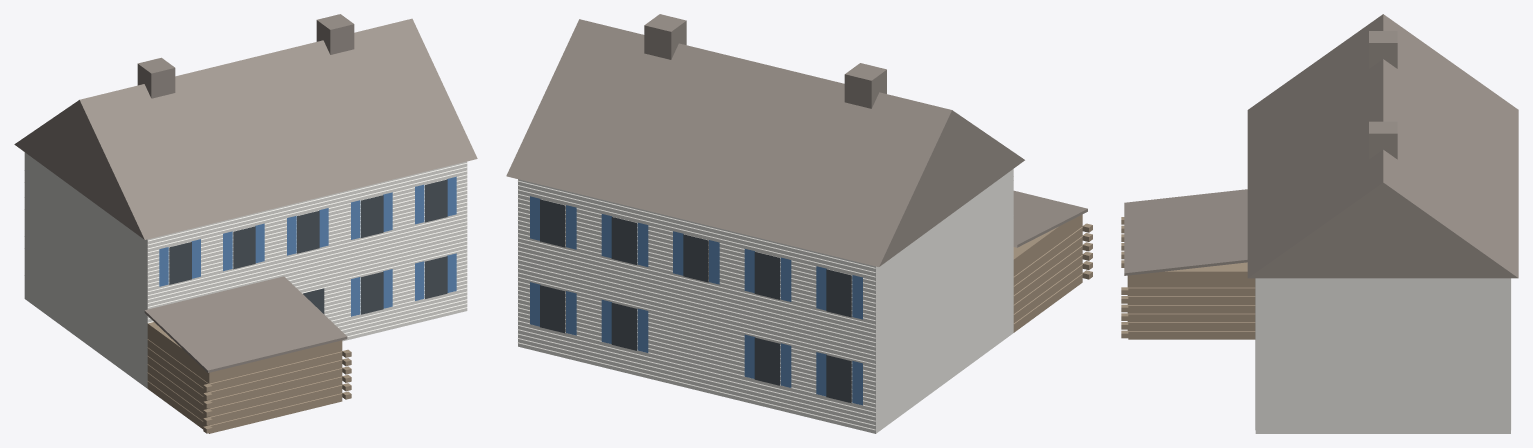
The model's file is sauganash_hotel__frame_1831.glb.
3 renders of one model, left to right at view 1: azimuth 30°, elevation 25°; view 2: azimuth 150°, elevation 25°; view 3: azimuth 270°, elevation 25°, orthographic. The views are drawn at different scales.
Parts seen in each view (by area): view 1: sauganash_hotel__frame_1831; view 2: sauganash_hotel__frame_1831; view 3: sauganash_hotel__frame_1831.
Part boxes in pixels (x1,y1,x2,y2): sauganash_hotel__frame_1831: (14,14,477,433); sauganash_hotel__frame_1831: (506,14,1092,433); sauganash_hotel__frame_1831: (1121,14,1518,433).
Bounding box in the file's own units: 12.5 × 9.37 × 12.47.
